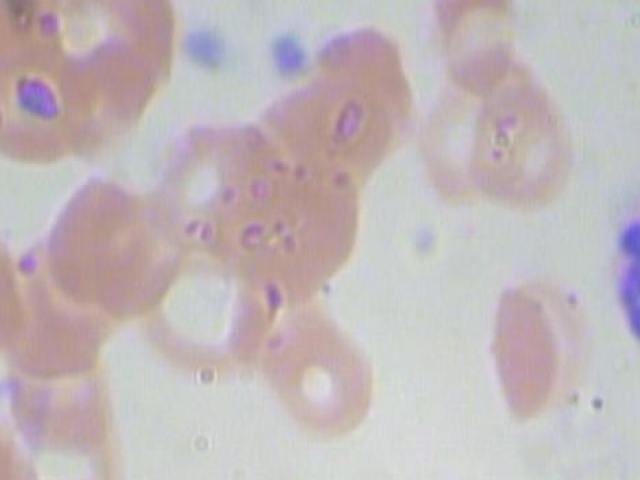Platelets: (255, 20, 314, 91), (177, 12, 236, 83)
RBC: (471, 257, 619, 441), (220, 144, 380, 301), (246, 68, 397, 229), (263, 289, 390, 452), (31, 170, 165, 324), (143, 242, 276, 396), (0, 305, 127, 459), (26, 0, 181, 124), (406, 59, 517, 220), (473, 53, 583, 214), (0, 241, 106, 395), (9, 391, 143, 480), (425, 0, 521, 101), (0, 0, 73, 107), (28, 465, 164, 480), (202, 0, 382, 7), (0, 418, 9, 480)
WBC: (590, 170, 640, 386)
